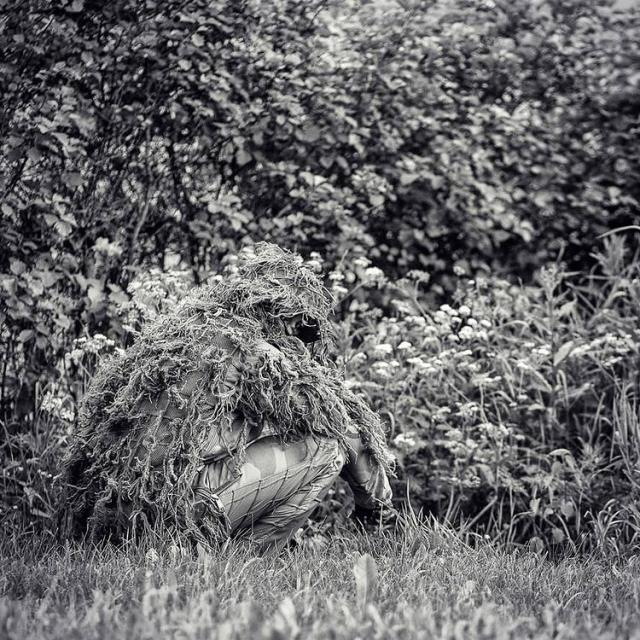Camouflage: (24, 241, 402, 544)
